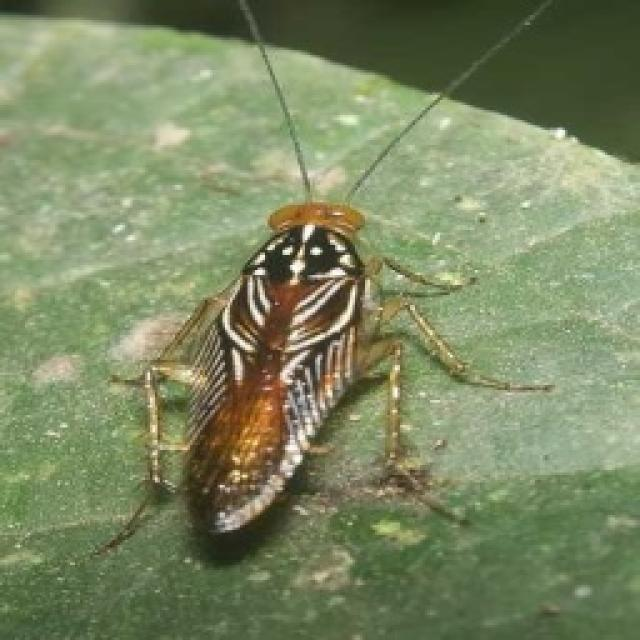cockroach: (179, 217, 374, 540)
